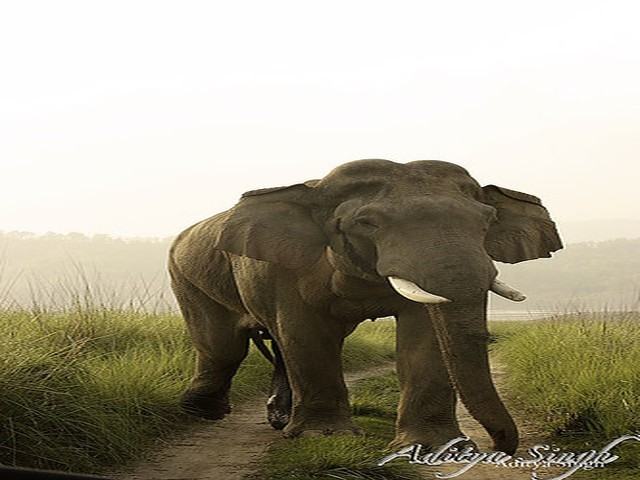Elephant: (163, 155, 576, 438)
